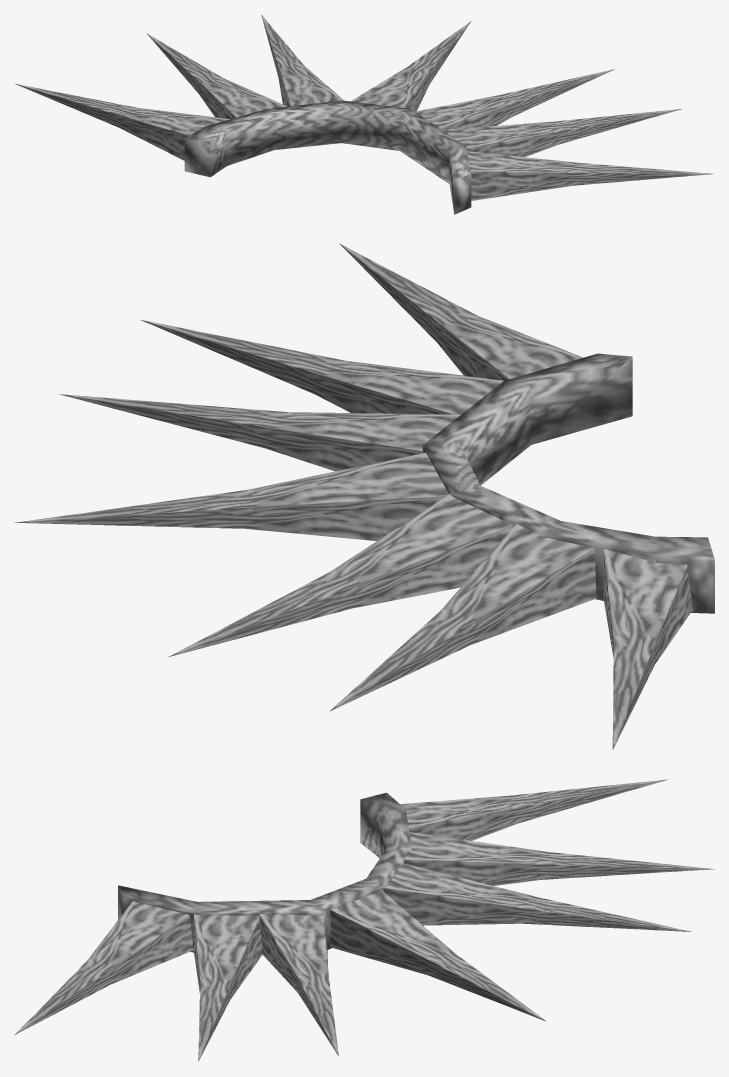
Rendered from Wig_Kate_Hair_MohawkSpike.fbx.
The picture shows the model from 3 angles, top to bottom: view 1: azimuth 30°, elevation 25°; view 2: azimuth 150°, elevation 25°; view 3: azimuth 270°, elevation 25°; orthographic projection. The views are drawn at different scales.
Visible parts, largest first — view 1: BoxOfJars003; view 2: BoxOfJars003; view 3: BoxOfJars003.
Part boxes in pixels (x1=…): BoxOfJars003: x1=15, y1=15, x2=712, y2=214; BoxOfJars003: x1=14, y1=243, x2=714, y2=749; BoxOfJars003: x1=15, y1=779, x2=714, y2=1061.
Size of the model in its own units: 25.76 by 1.85 by 26.95.
